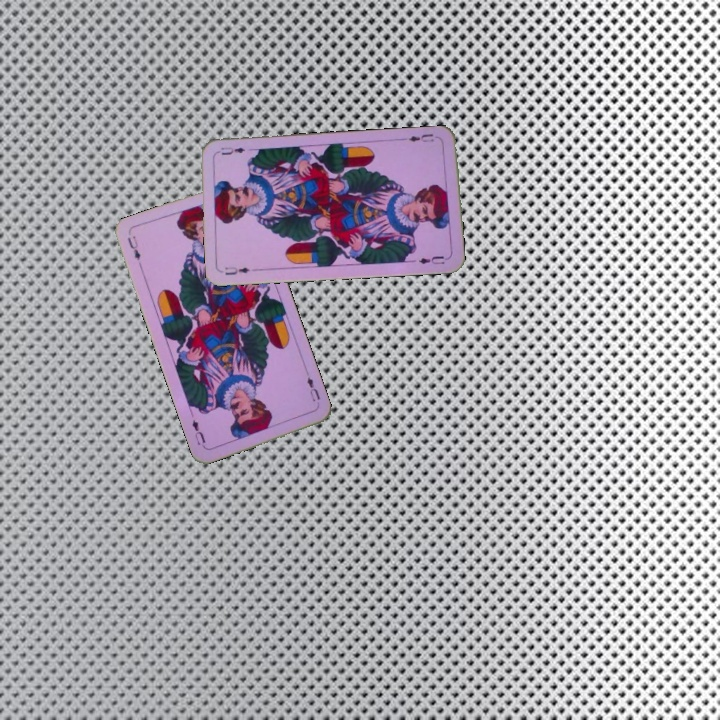EU: (302, 369, 323, 404), (123, 231, 143, 262), (401, 130, 442, 145), (221, 262, 252, 277)
